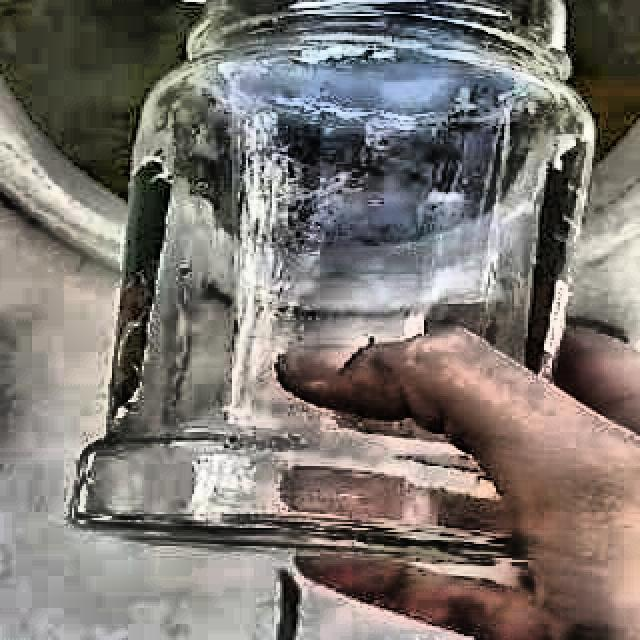glass: (72, 0, 595, 564)
